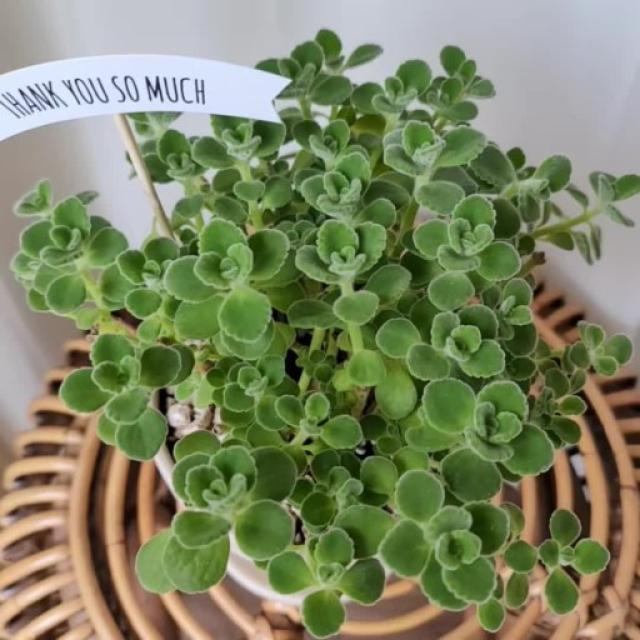Vicks: (136, 430, 298, 592), (165, 218, 305, 358), (380, 470, 509, 610), (61, 335, 194, 459), (288, 219, 411, 348), (422, 379, 551, 501), (400, 194, 521, 311), (268, 528, 385, 638), (295, 152, 409, 227), (538, 509, 610, 614), (384, 121, 485, 176)
